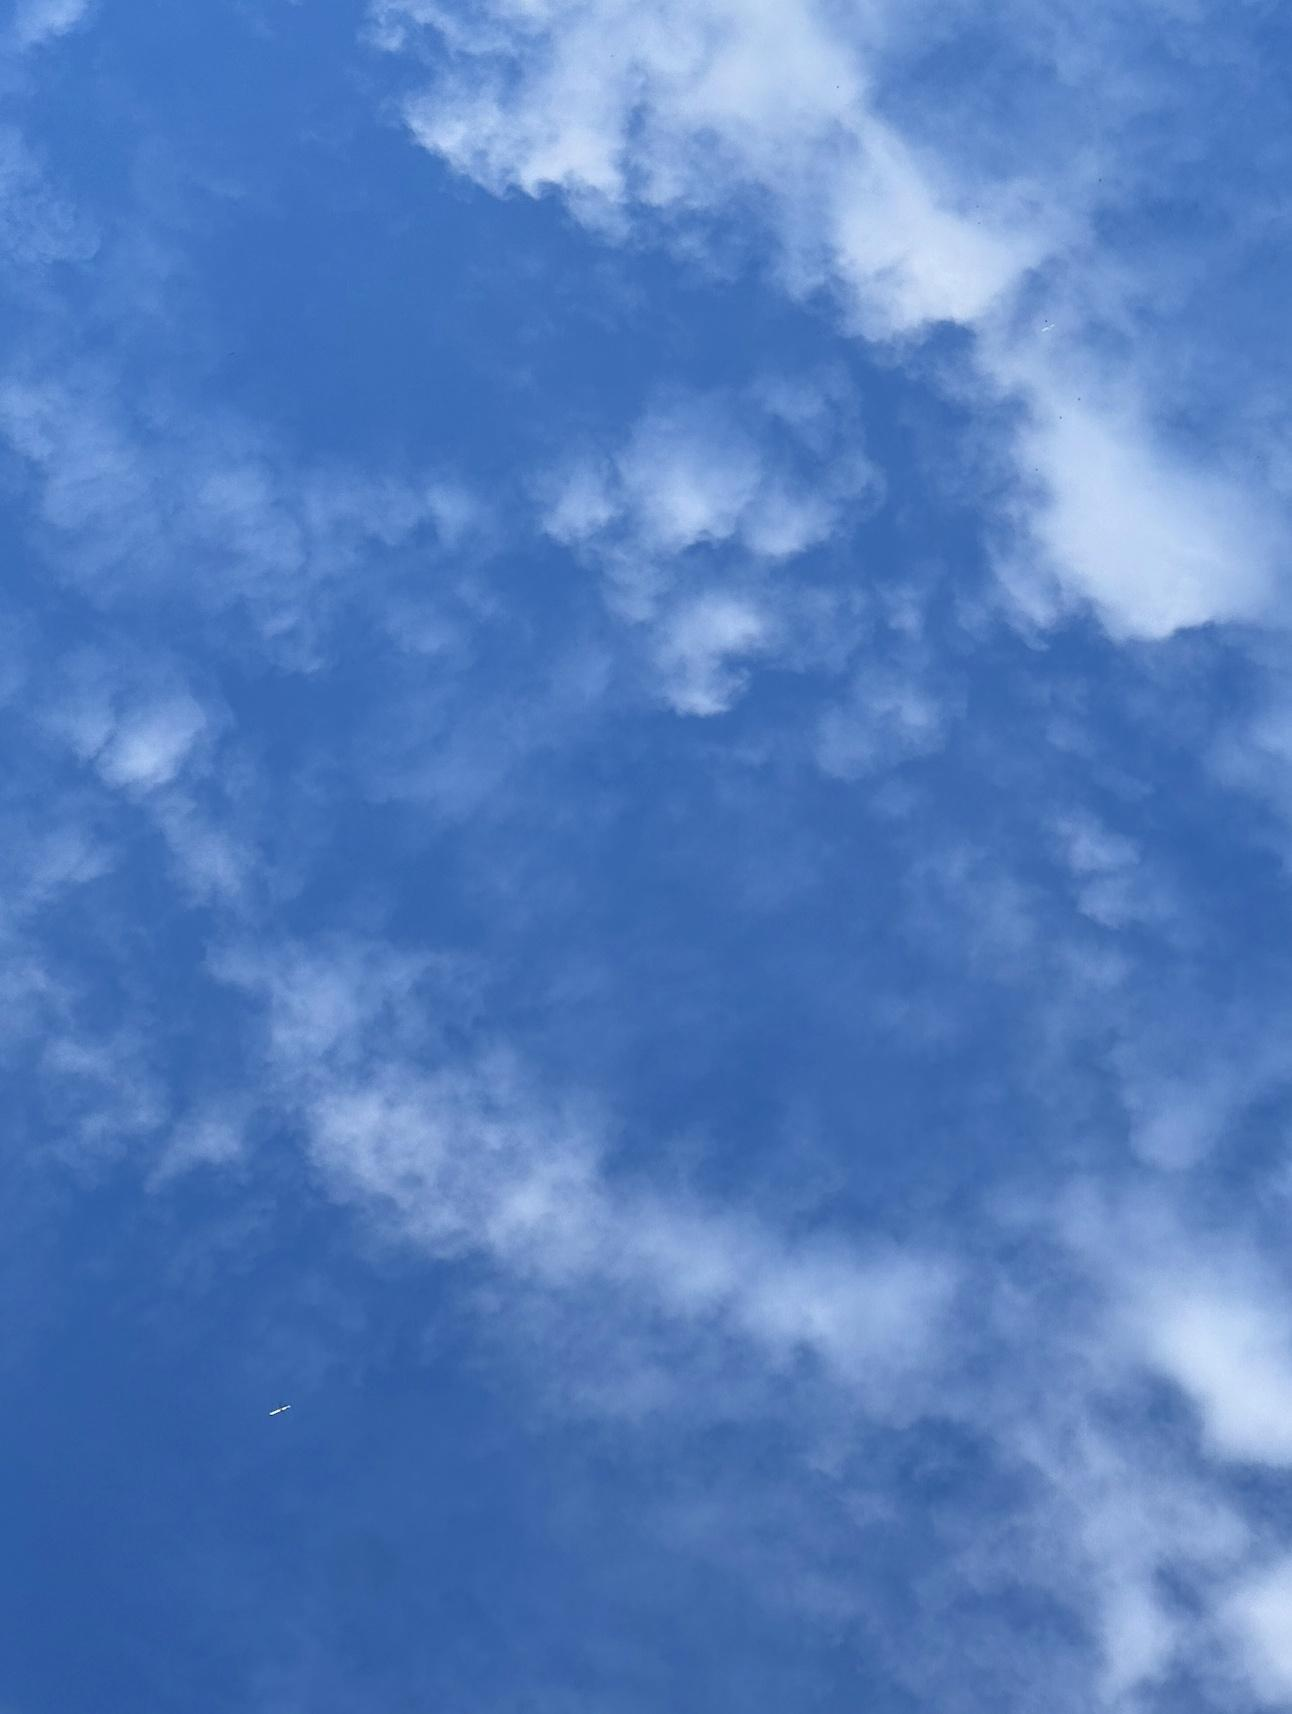Plane: (250, 1391, 313, 1428)
